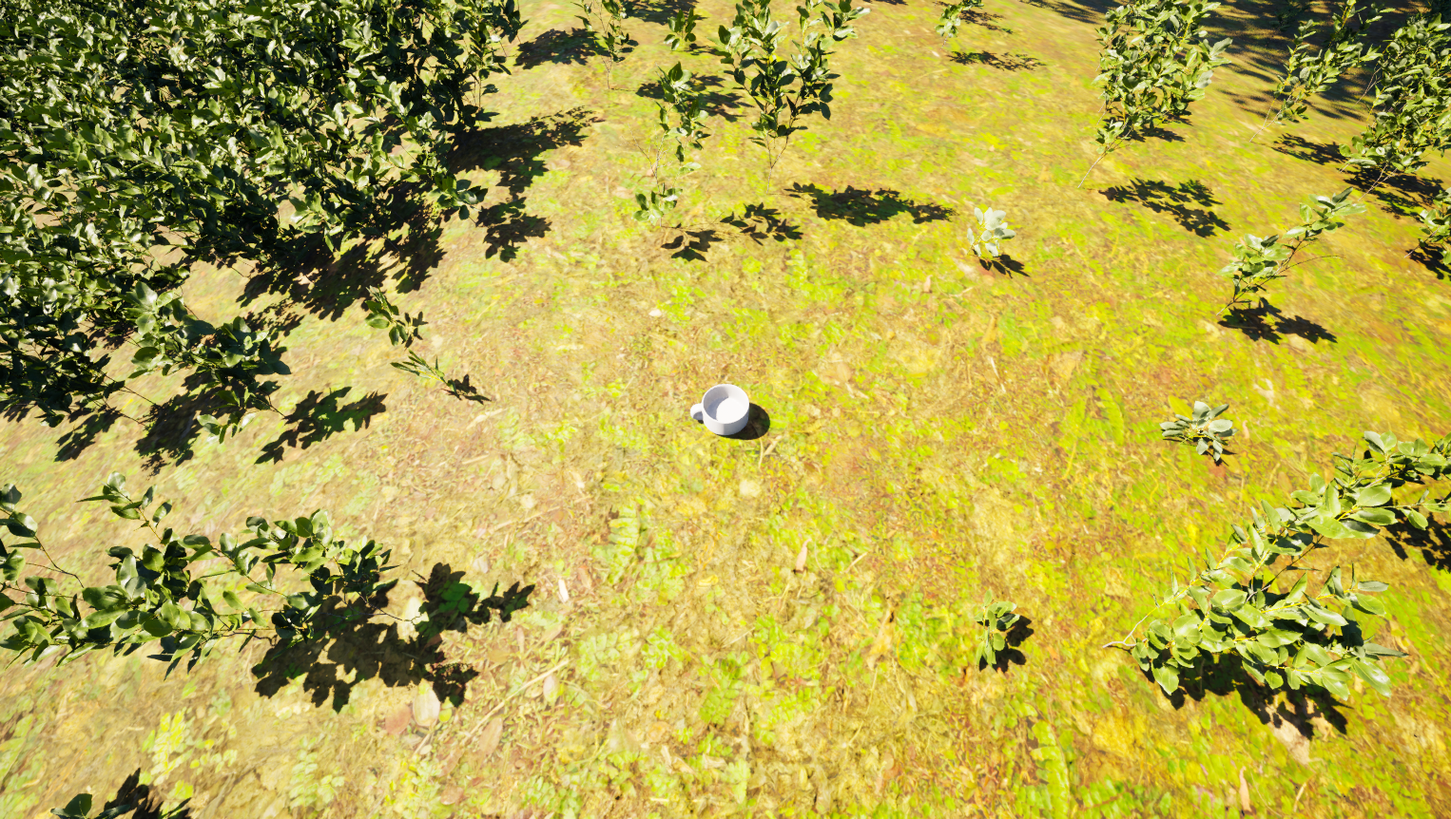Teacup: (687, 375, 757, 443)
